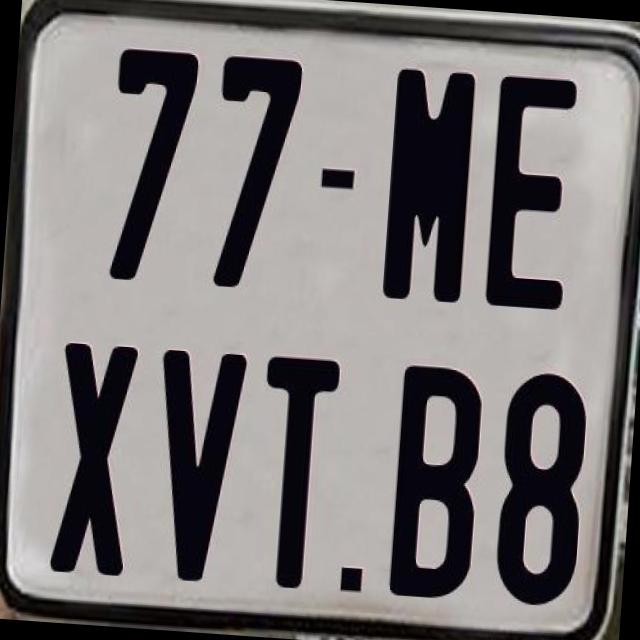7: (100, 48, 199, 292), (204, 54, 300, 294)
8: (488, 370, 588, 614)
B: (386, 362, 489, 600)
E: (481, 69, 575, 313)
M: (378, 62, 479, 308)
T: (252, 354, 348, 590)
V: (147, 346, 249, 585)
X: (48, 337, 140, 574)
